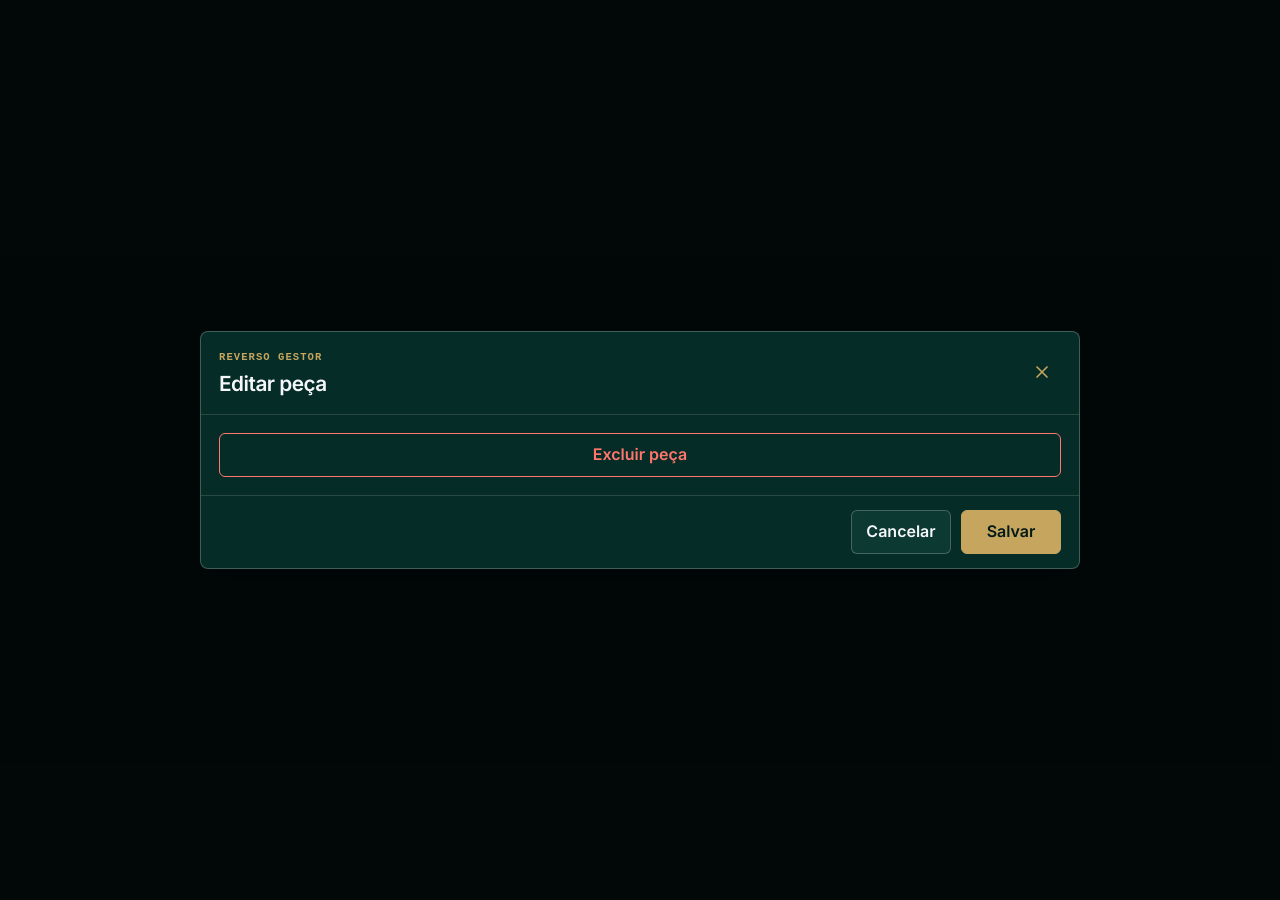
confirmações e modais aninhados › confirmar exclusão não submete também o formulário pai
Click the button "Excluir peça" at (640, 455), box [219,433,1061,477]
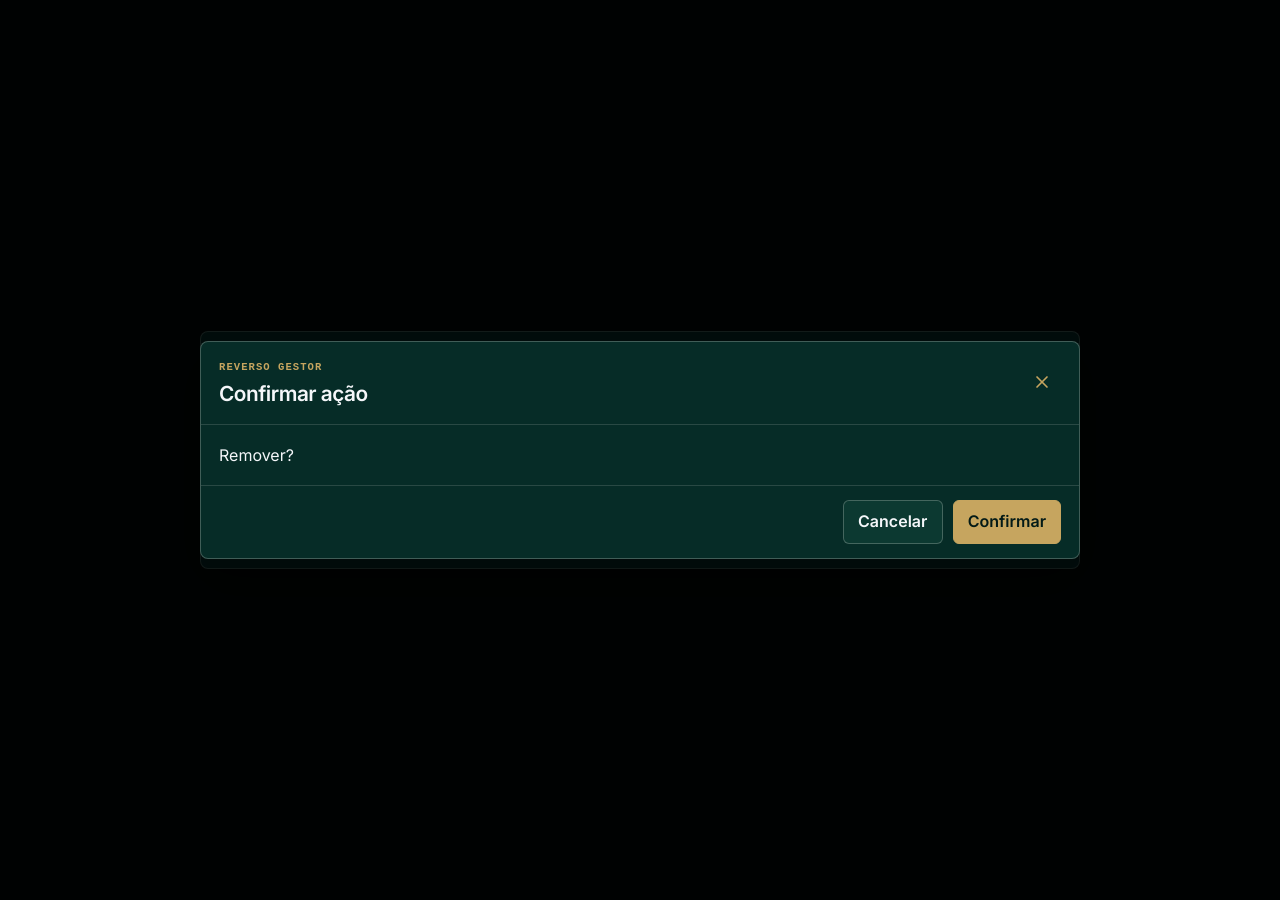
Click the button "Confirmar" at (1007, 522), box [953,500,1061,544]
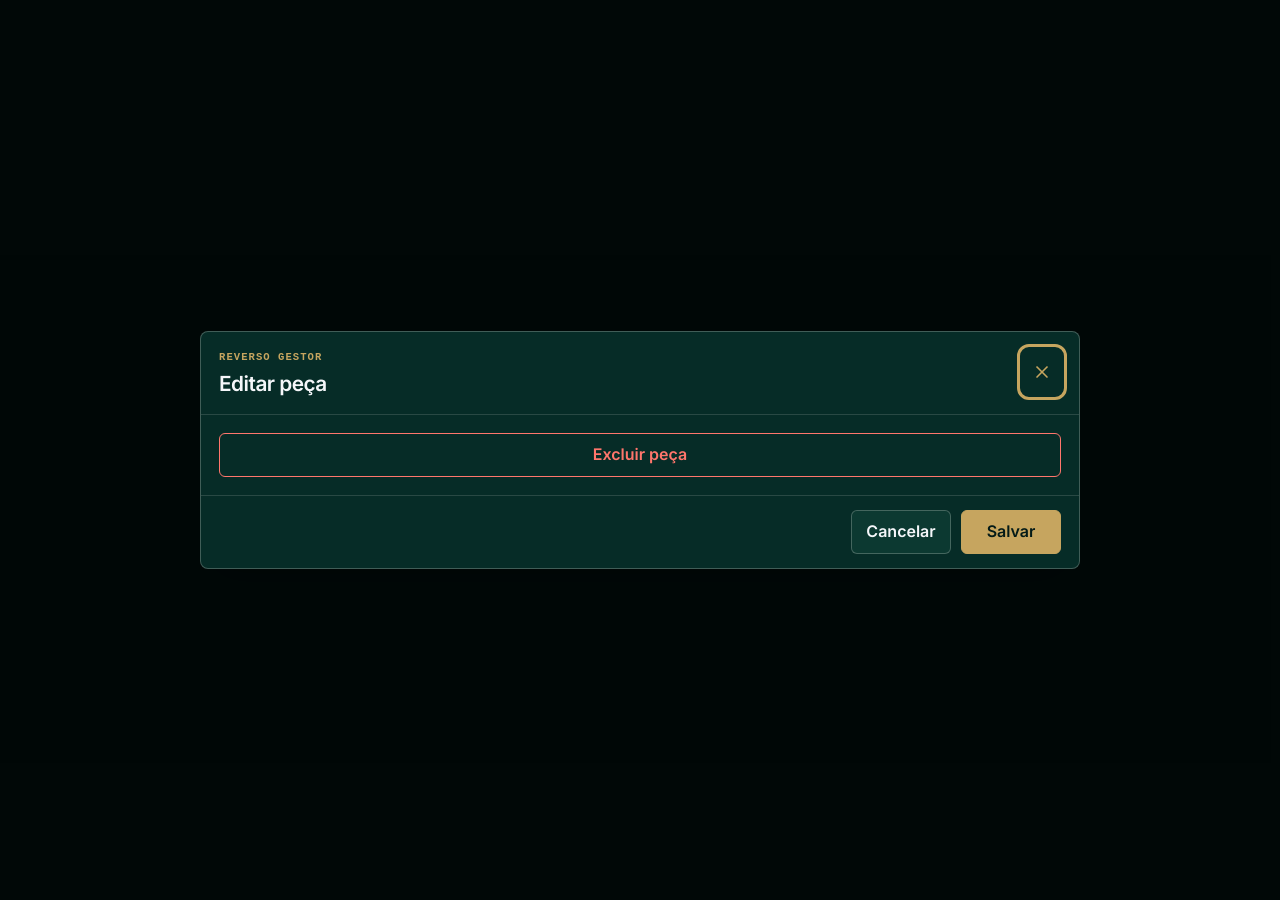
Now the number of dialogs is 1, box [200,331,1080,569]
